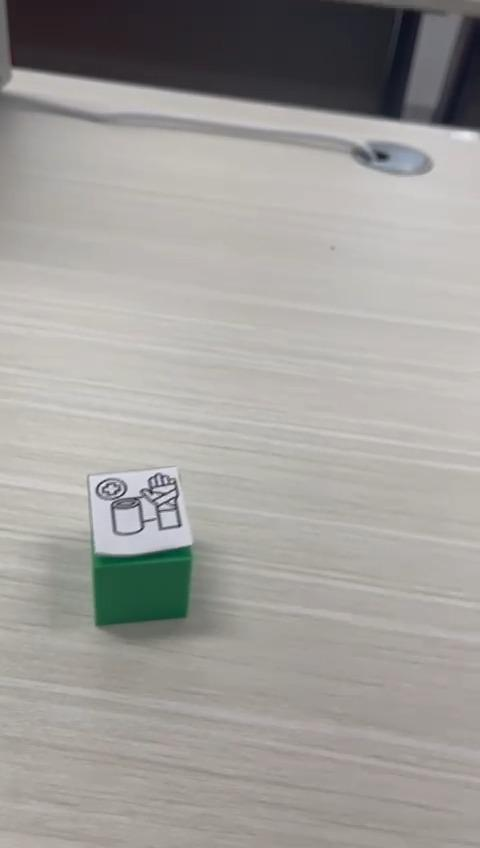Bandages: (88, 464, 193, 627)
